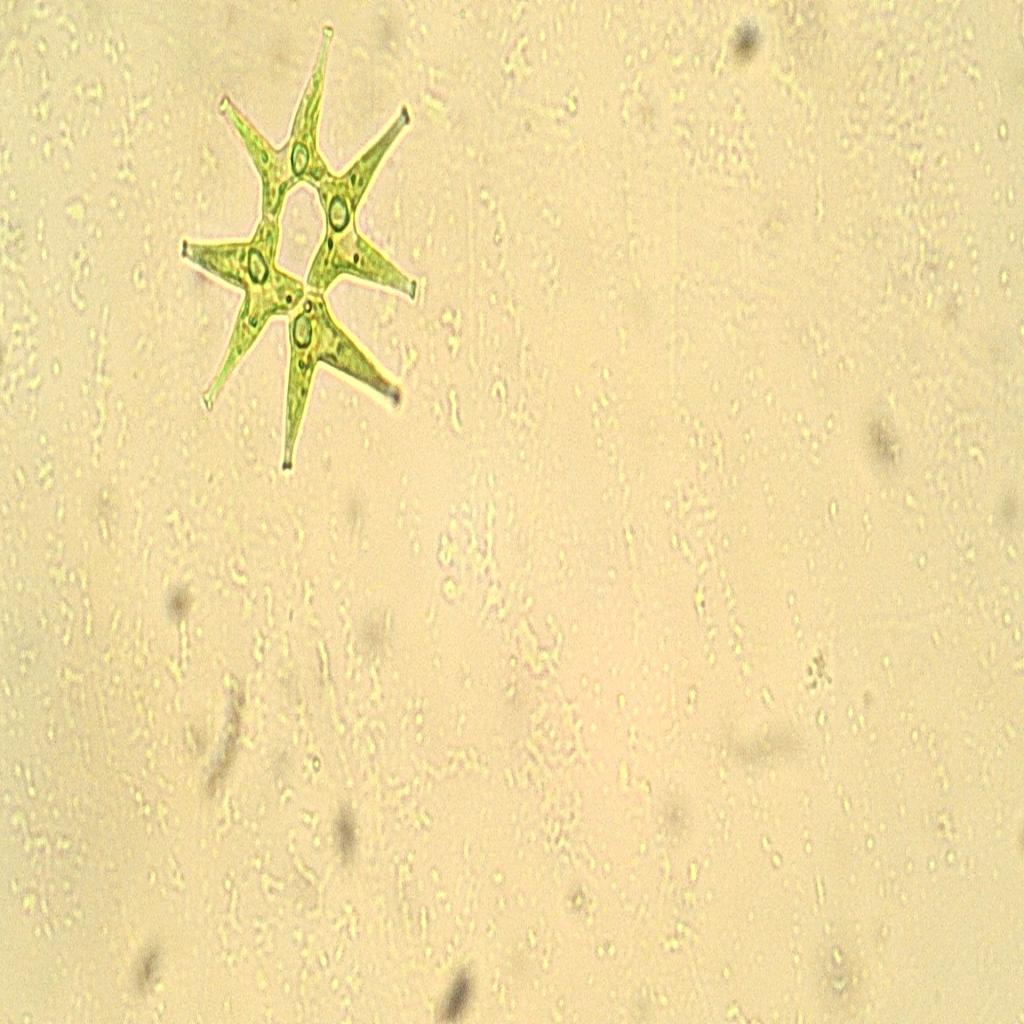Pediastrum_CT: (159, 14, 445, 494)
